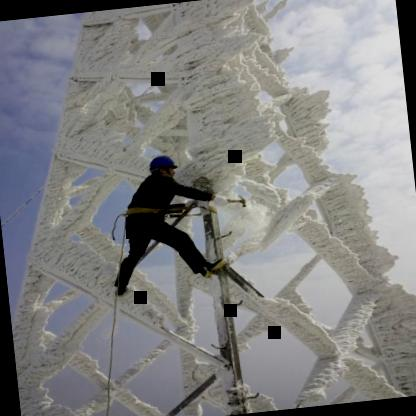helmet: (141, 149, 182, 185)
